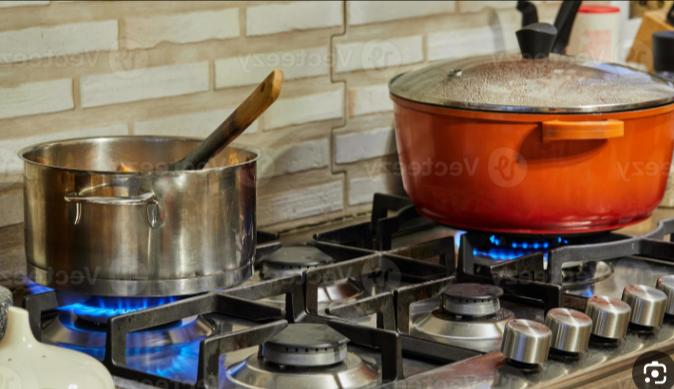controlled_fire: (0, 250, 238, 388), (415, 203, 618, 298)
